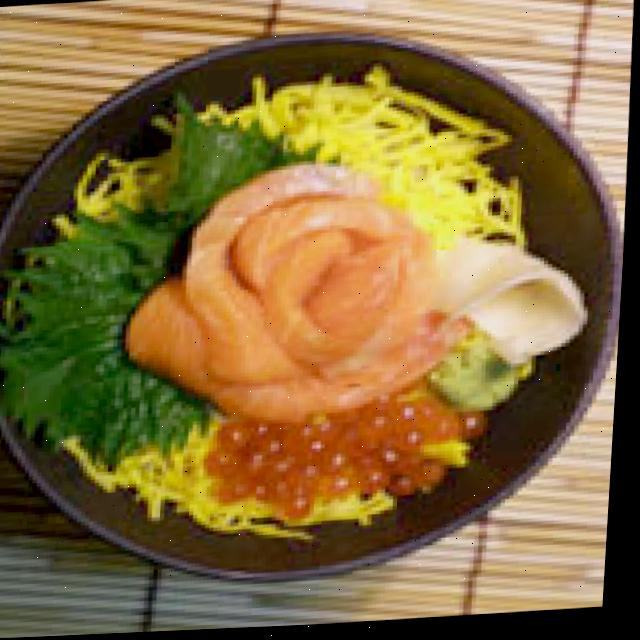刺身生食: (0, 7, 639, 600)
